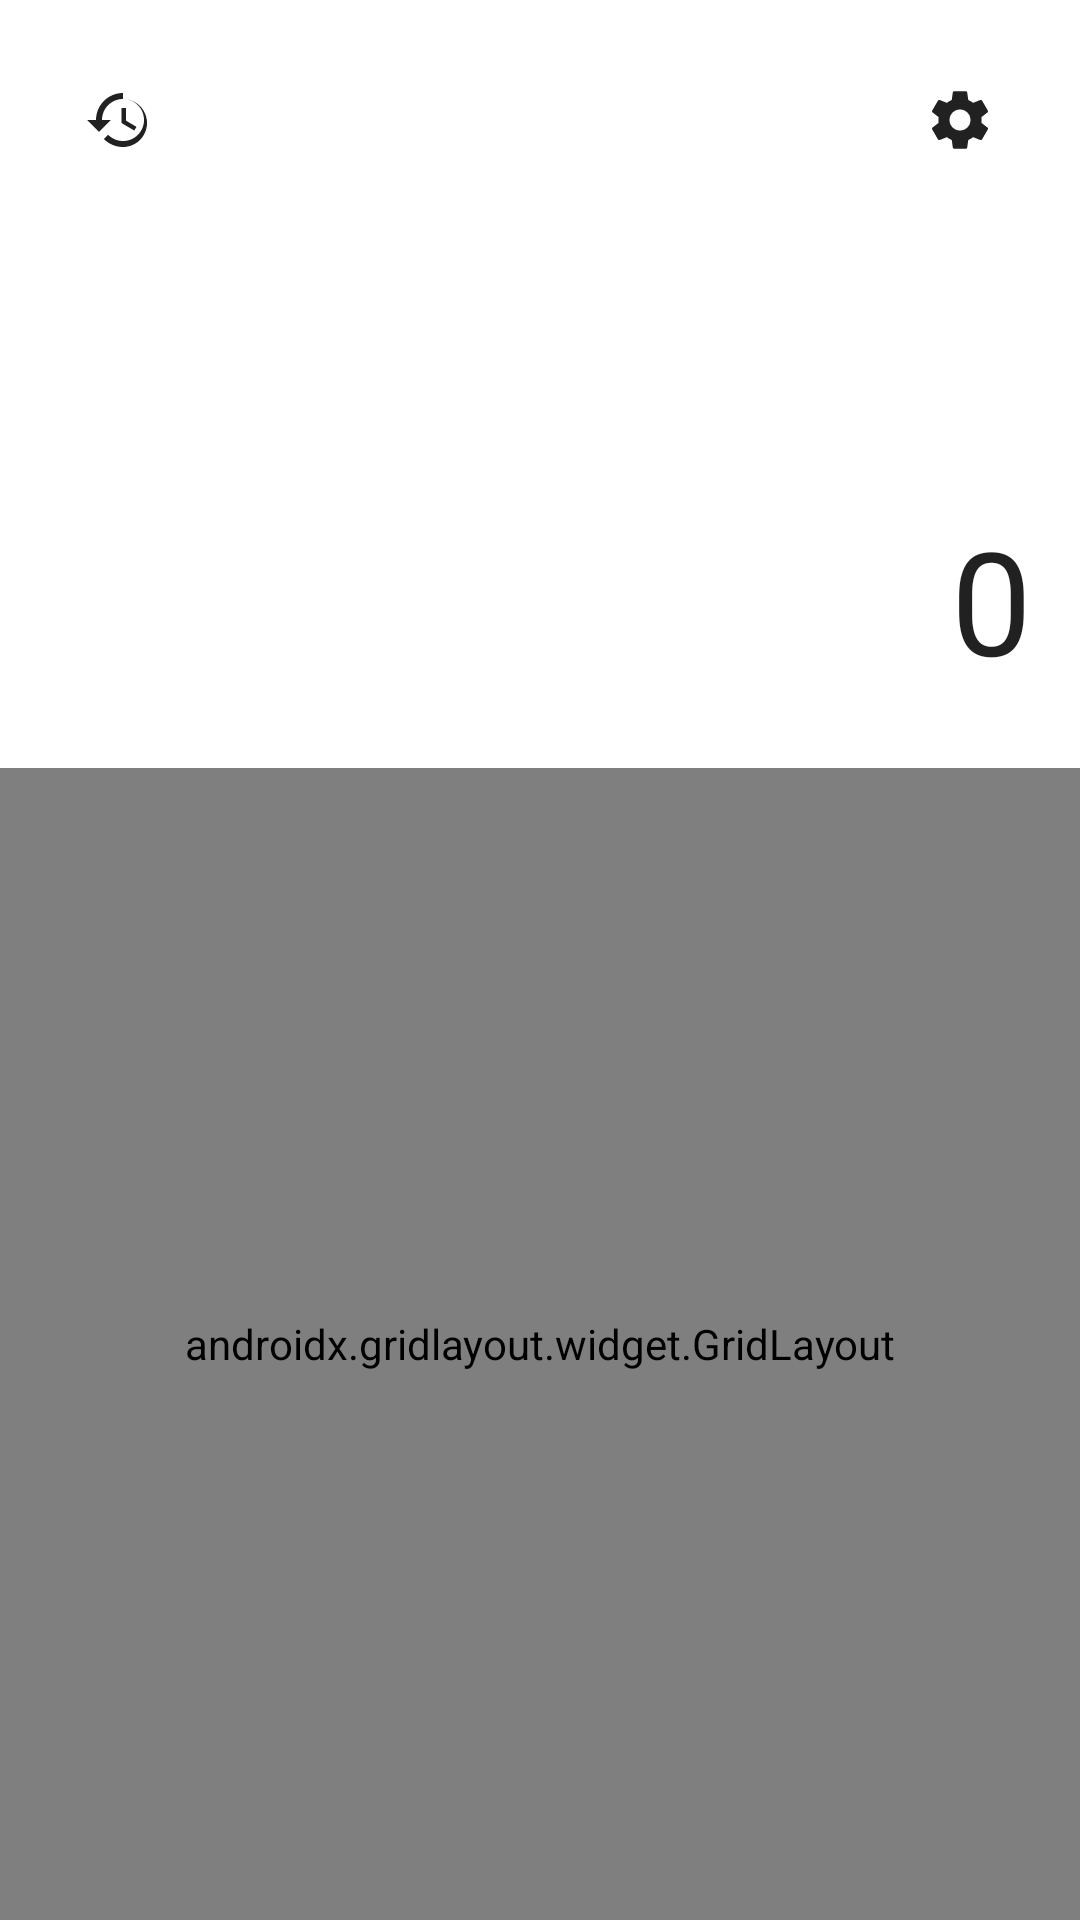

Where to tap for icons on this 1080px×1920px app screen, as point (x, y):
History: point (117, 120)
Preferences: point (960, 120)
